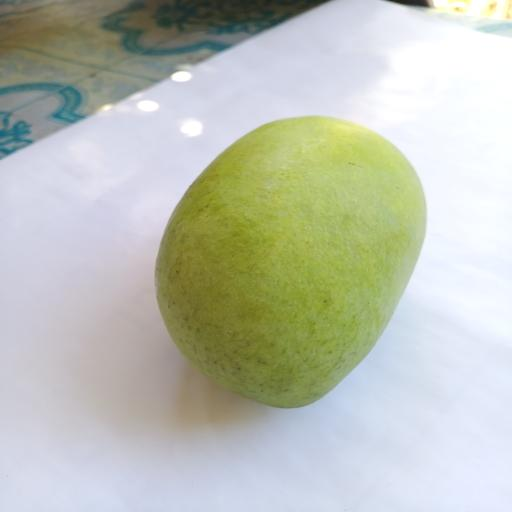mango-unripe: (146, 95, 441, 416)
